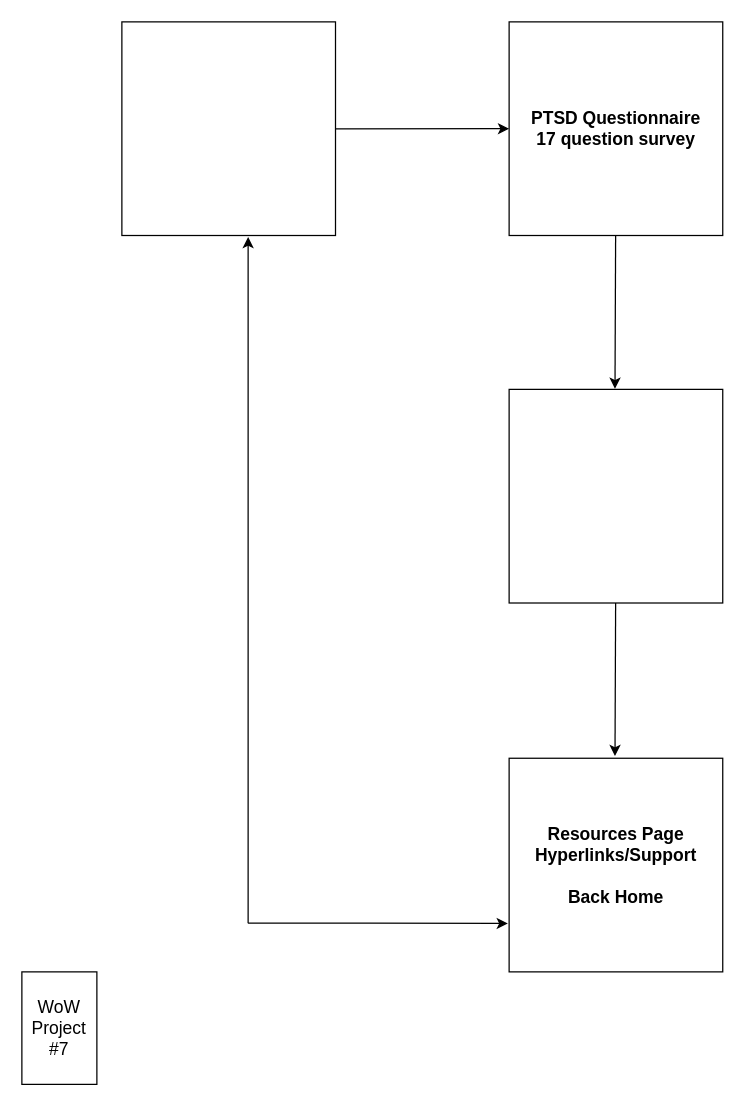
This 745x1106 diagram has some shape labels left out. Each missing label, with the centre of its shape:
Home Page/ About PTSD: [228,128]
Results Page Indication of non-diagnosis level of PTSD: [615,495]
